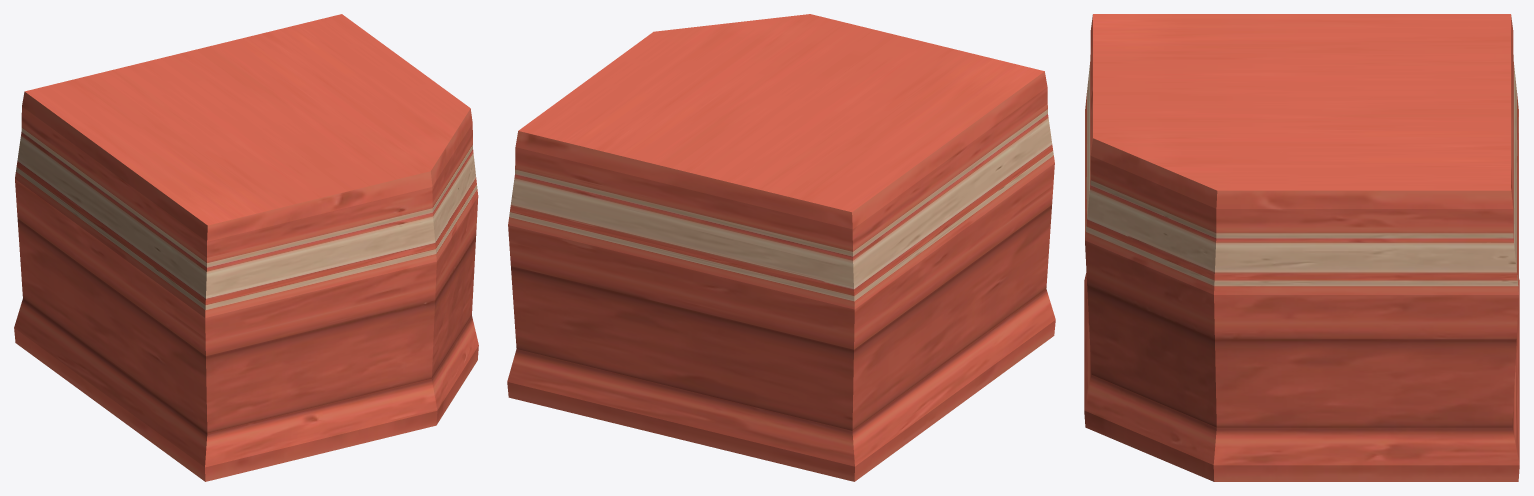
The model's file is corner_rect90_coral.glb.
3 renders of one model, left to right at view 1: azimuth 30°, elevation 25°; view 2: azimuth 150°, elevation 25°; view 3: azimuth 270°, elevation 25°, orthographic. The views are drawn at different scales.
Visible parts, largest first — view 1: corner_rect90_coral; view 2: corner_rect90_coral; view 3: corner_rect90_coral.
Boxes of the visible parts, x1,y1,x2,y2 form: corner_rect90_coral: (14, 14, 478, 481); corner_rect90_coral: (507, 14, 1055, 481); corner_rect90_coral: (1084, 14, 1519, 481).
Bounding box in the file's own units: 0.7396 × 0.5398 × 0.7396.
Materials: 1 (1 with a texture image).
